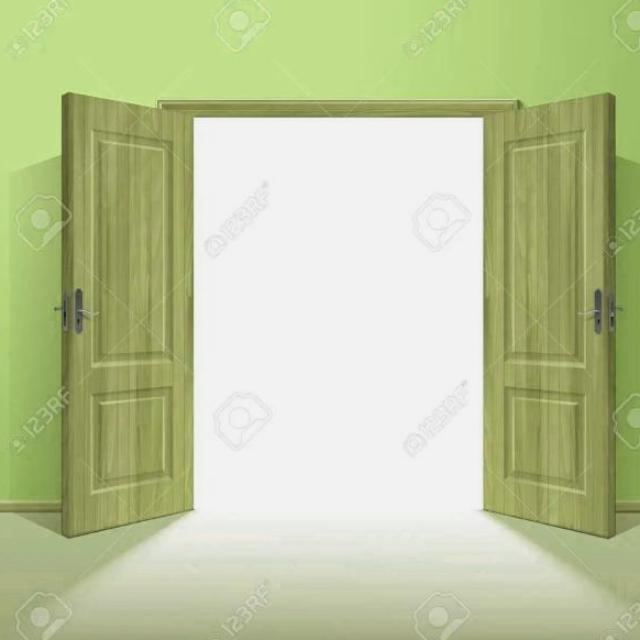door: (59, 90, 194, 537), (482, 91, 617, 538)
